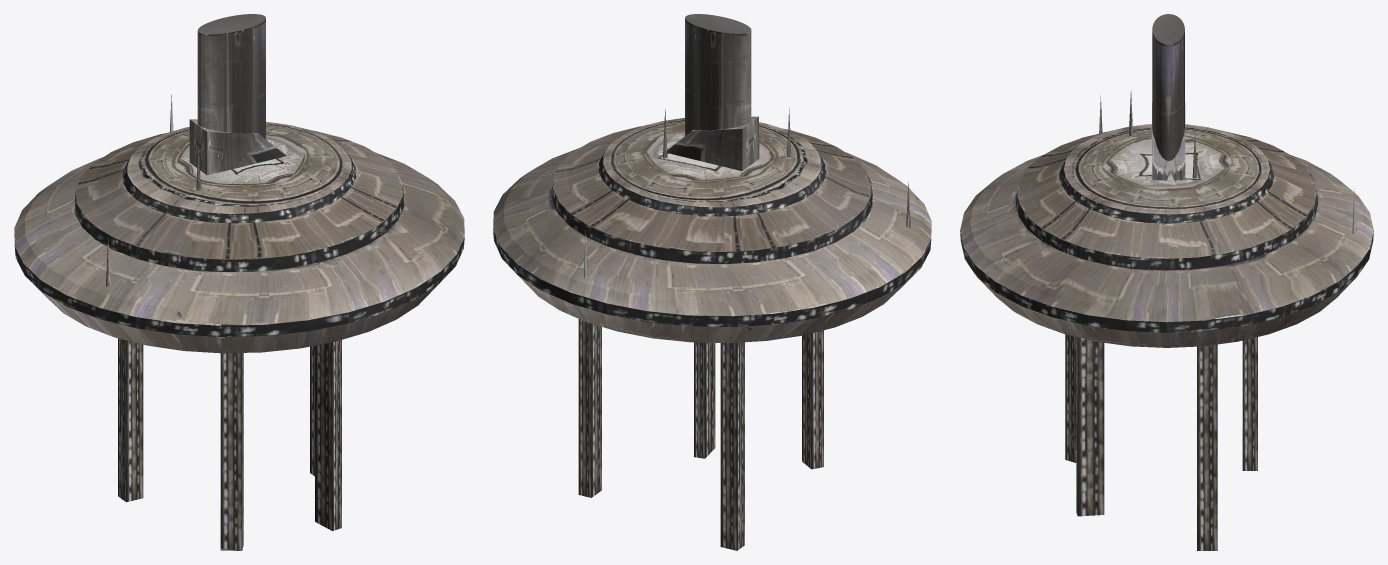
The model's file is kamino.obj.
3 views of the same model, side by side, from view 1: azimuth 30°, elevation 25°; view 2: azimuth 150°, elevation 25°; view 3: azimuth 270°, elevation 25° (orthographic). The views are drawn at different scales.
Visible parts, largest first — view 1: base.005, base.013, base.012, base.010, base.014, base.002, base.001, base.009, base.003, base.016, base.018, base.022 (+7 smaller); view 2: base.005, base.014, base.015, base.003, base.010, base.013, base.004, base.009, base.016, base.001, base.018, base.019 (+8 smaller); view 3: base.005, base.012, base.015, base.002, base.010, base.016, base.004, base.009, base.021, base.003, base.013, base.014 (+6 smaller).
Part boxes in pixels (x1=…): base.005: x1=28, y1=122, x2=439, y2=353; base.013: x1=42, y1=239, x2=348, y2=325; base.012: x1=319, y1=171, x2=464, y2=311; base.010: x1=14, y1=184, x2=464, y2=336; base.014: x1=14, y1=157, x2=102, y2=279; base.002: x1=315, y1=340, x2=341, y2=530; base.001: x1=220, y1=324, x2=243, y2=550; base.009: x1=75, y1=186, x2=403, y2=271; base.003: x1=118, y1=338, x2=143, y2=502; base.016: x1=168, y1=132, x2=310, y2=189; base.018: x1=197, y1=31, x2=227, y2=154; base.022: x1=227, y1=29, x2=252, y2=133; base.005: x1=518, y1=118, x2=919, y2=343; base.014: x1=606, y1=232, x2=903, y2=316; base.015: x1=493, y1=165, x2=634, y2=302; base.003: x1=720, y1=316, x2=744, y2=550; base.010: x1=493, y1=188, x2=931, y2=327; base.013: x1=845, y1=152, x2=931, y2=271; base.004: x1=578, y1=319, x2=601, y2=497; base.009: x1=552, y1=180, x2=872, y2=263; base.016: x1=643, y1=128, x2=781, y2=183; base.001: x1=802, y1=330, x2=823, y2=469; base.018: x1=722, y1=31, x2=751, y2=129; base.019: x1=698, y1=26, x2=722, y2=130; base.005: x1=975, y1=124, x2=1358, y2=347; base.012: x1=960, y1=204, x2=1166, y2=321; base.015: x1=1167, y1=204, x2=1373, y2=321; base.002: x1=1076, y1=337, x2=1104, y2=516; base.010: x1=960, y1=230, x2=1373, y2=332; base.016: x1=1102, y1=134, x2=1231, y2=190; base.004: x1=1197, y1=319, x2=1217, y2=550; base.009: x1=1016, y1=193, x2=1317, y2=270; base.021: x1=1153, y1=37, x2=1183, y2=160; base.003: x1=1242, y1=337, x2=1257, y2=470; base.013: x1=960, y1=155, x2=1042, y2=230; base.014: x1=1291, y1=155, x2=1373, y2=229.
Size of the model in its own units: 2.74 by 3.26 by 2.62.
